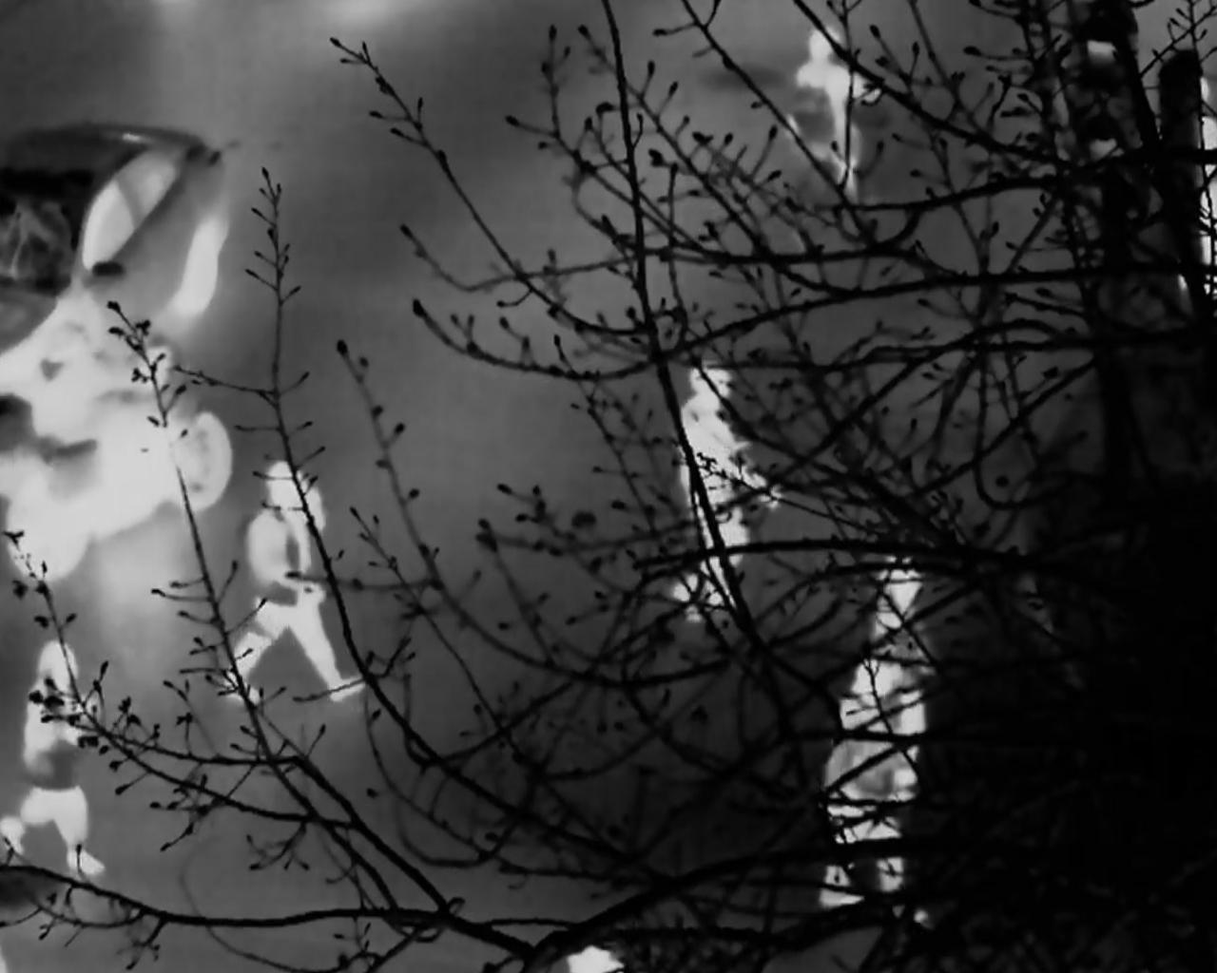person: (831, 549, 944, 814), (243, 460, 360, 711), (814, 670, 925, 927), (26, 652, 124, 925), (671, 372, 748, 609), (799, 31, 883, 196)
